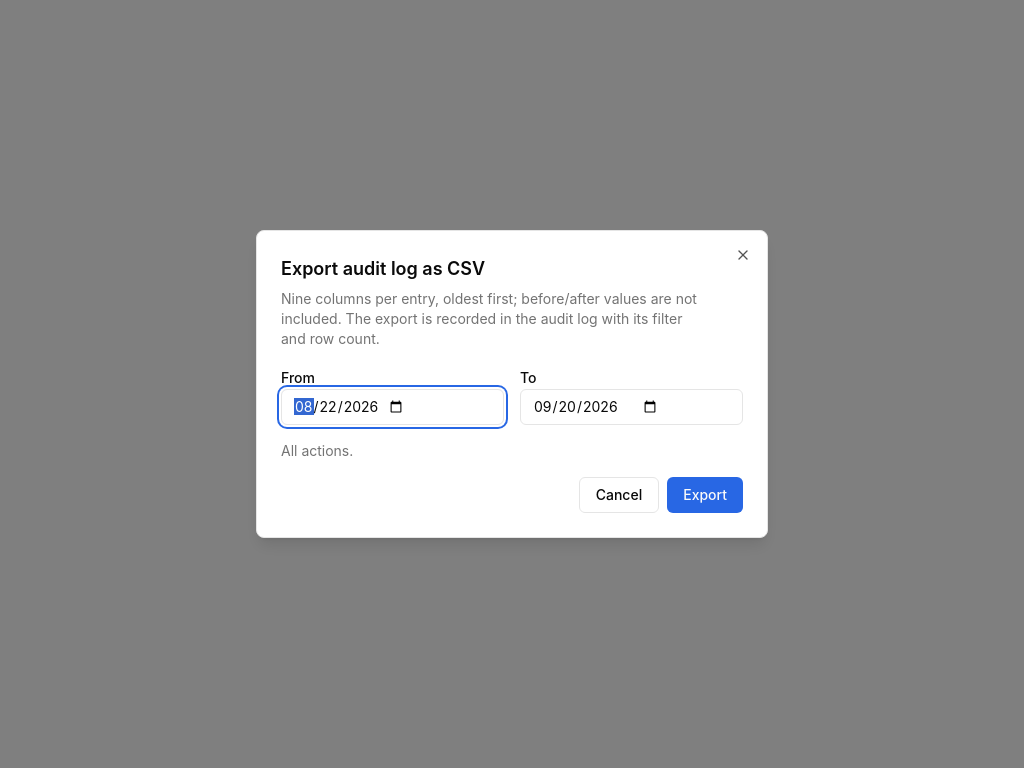
Scenario: ExportDialog (D8) › refuses a range past 366 days before asking the API
Clear the date field labelled "From": (392, 407) [281,389,504,425]
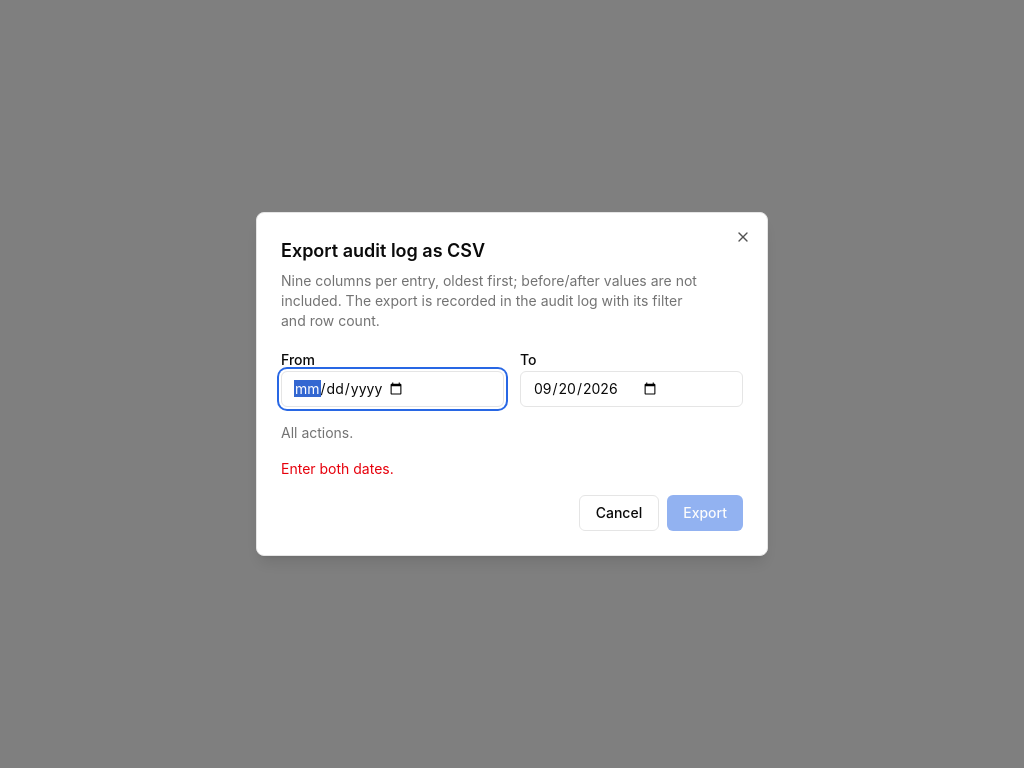
In the date field labelled "From": (392, 389) [281,371,504,407], type "2025-01-01"
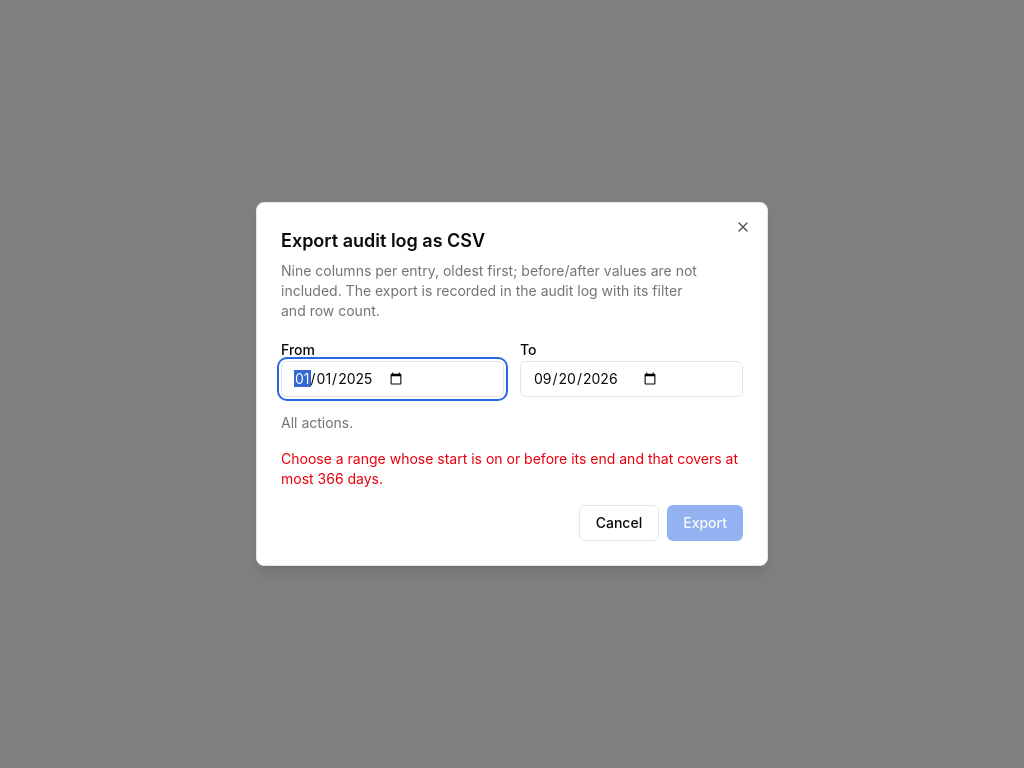
Now the button "Export" is disabled, box [667,505,743,541]
Now the message shows "366", box [281,450,738,487]
